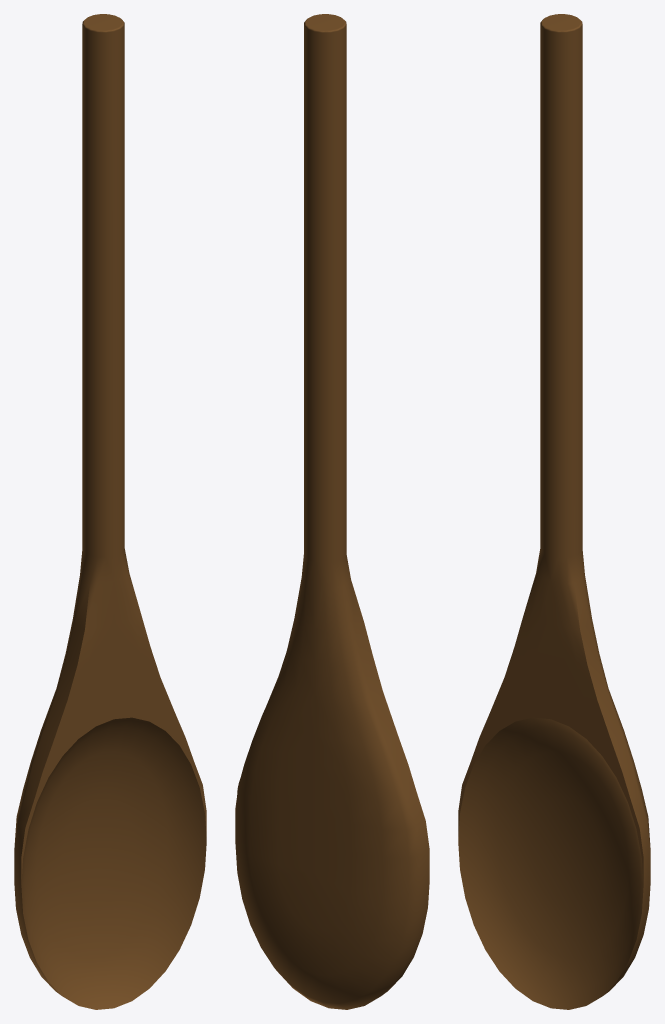
Rendered from Tool_Spoon.fbx.
3 views of the same model, side by side, from view 1: azimuth 30°, elevation 25°; view 2: azimuth 150°, elevation 25°; view 3: azimuth 330°, elevation 25° (orthographic).
Parts seen in each view (by area): view 1: Tool_Common_Spoon; view 2: Tool_Common_Spoon; view 3: Tool_Common_Spoon.
Boxes of the visible parts, box(x1,y1,x2,y2) form: Tool_Common_Spoon: box(14, 14, 206, 1009); Tool_Common_Spoon: box(235, 14, 429, 1009); Tool_Common_Spoon: box(458, 14, 650, 1009).
Bounding box in the file's own units: 8.95 × 45.13 × 1.78.
